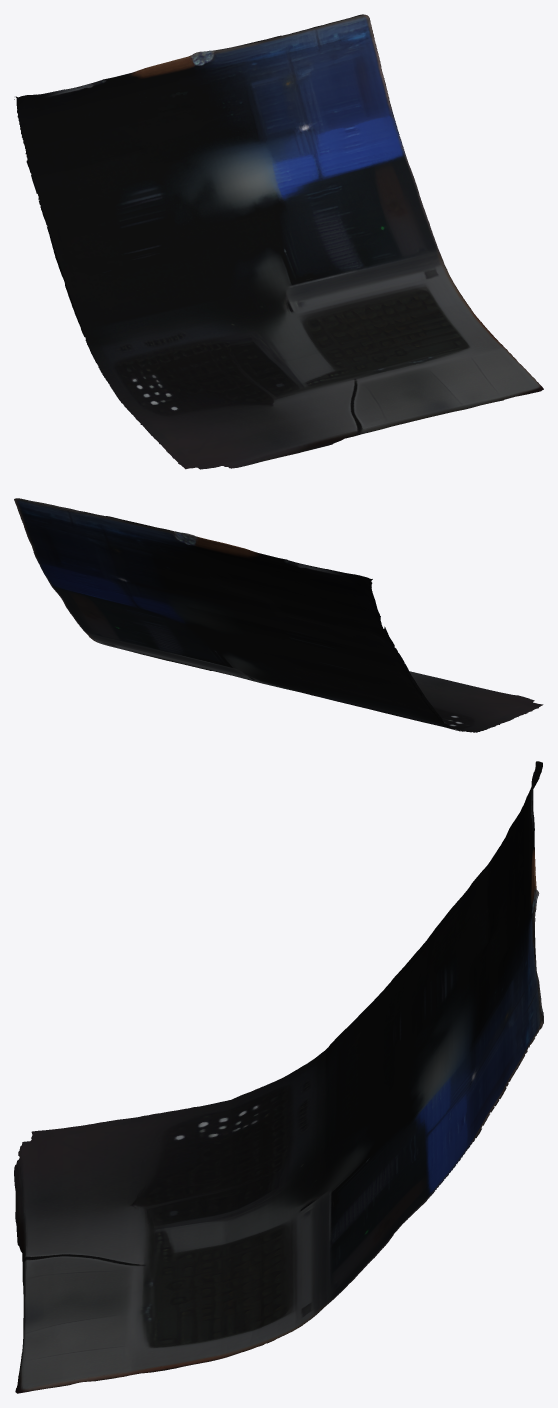
The picture shows the model from 3 angles, top to bottom: view 1: azimuth 30°, elevation 25°; view 2: azimuth 150°, elevation 25°; view 3: azimuth 270°, elevation 25°; orthographic projection. The views are drawn at different scales.
Visible parts, largest first — view 1: world; view 2: world; view 3: world.
Part boxes in pixels (box(x1,y1,x2,y2)): world: box(14, 14, 543, 469); world: box(14, 498, 543, 732); world: box(14, 761, 543, 1393).
Bounding box in the file's own units: 1 × 0.6886 × 0.8678.
Materials: 1 (1 with a texture image).
